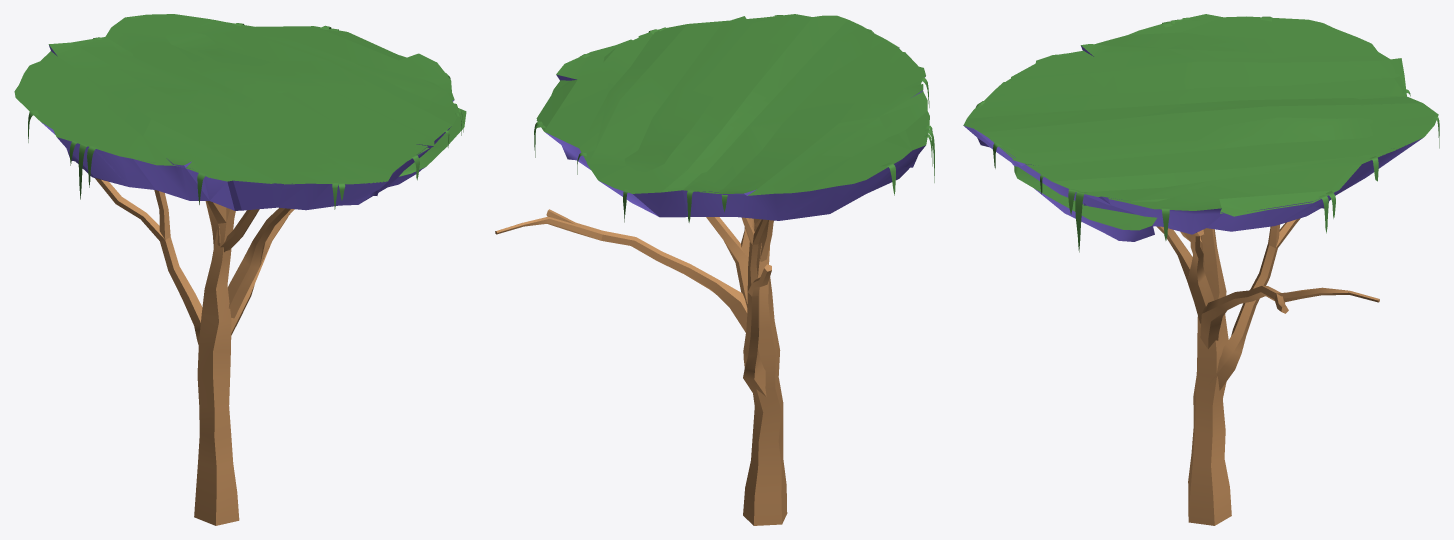
The model's file is tree_D_canopy_B_solo.fbx.
The picture shows the model from 3 angles, left to right: view 1: azimuth 30°, elevation 25°; view 2: azimuth 150°, elevation 25°; view 3: azimuth 270°, elevation 25°; orthographic projection. The views are drawn at different scales.
Parts seen in each view (by area): view 1: tree_D_canopy_B, tree_D_canopy_B_extruded, tree_D_canopy_B_trunk_A, tree_D_canopy_B_trunk_C, tree_D_canopy_B_trunk_G, tree_D_canopy_B_trunk_H; view 2: tree_D_canopy_B, tree_D_canopy_B_extruded, tree_D_canopy_B_trunk_A, tree_D_canopy_B_trunk_E, tree_D_canopy_B_trunk_C, tree_D_canopy_B_trunk_G; view 3: tree_D_canopy_B, tree_D_canopy_B_extruded, tree_D_canopy_B_trunk_A, tree_D_canopy_B_trunk_E, tree_D_canopy_B_trunk_C, tree_D_canopy_B_trunk_G.
Boxes of the visible parts, bbox=[...] form: tree_D_canopy_B: bbox=[14, 14, 458, 210]; tree_D_canopy_B_extruded: bbox=[15, 15, 466, 210]; tree_D_canopy_B_trunk_A: bbox=[194, 208, 239, 525]; tree_D_canopy_B_trunk_C: bbox=[95, 178, 202, 344]; tree_D_canopy_B_trunk_G: bbox=[228, 208, 294, 318]; tree_D_canopy_B_trunk_H: bbox=[220, 209, 259, 252]; tree_D_canopy_B: bbox=[536, 14, 929, 220]; tree_D_canopy_B_extruded: bbox=[536, 14, 927, 220]; tree_D_canopy_B_trunk_A: bbox=[743, 218, 787, 525]; tree_D_canopy_B_trunk_E: bbox=[495, 209, 747, 332]; tree_D_canopy_B_trunk_C: bbox=[742, 217, 771, 396]; tree_D_canopy_B_trunk_G: bbox=[706, 217, 754, 307]; tree_D_canopy_B: bbox=[963, 14, 1437, 234]; tree_D_canopy_B_extruded: bbox=[963, 14, 1438, 241]; tree_D_canopy_B_trunk_A: bbox=[1188, 228, 1231, 525]; tree_D_canopy_B_trunk_E: bbox=[1200, 285, 1379, 348]; tree_D_canopy_B_trunk_C: bbox=[1210, 218, 1300, 390]; tree_D_canopy_B_trunk_G: bbox=[1156, 226, 1214, 323].
Bounding box in the file's own units: 591 × 634 × 646.
